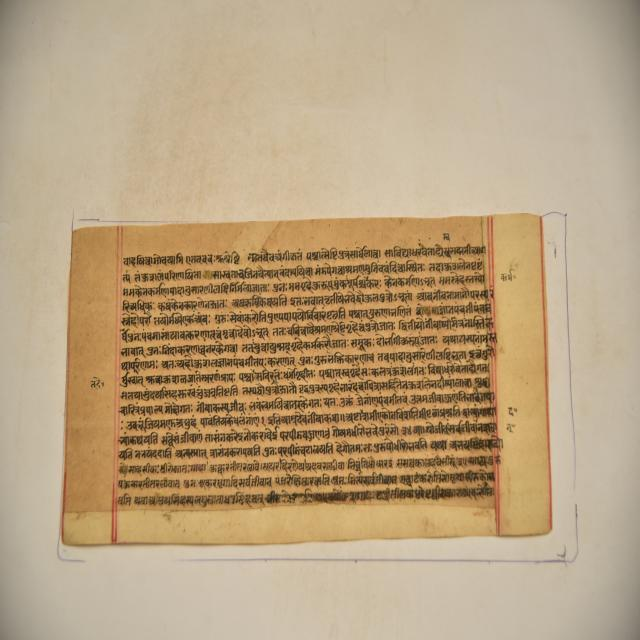text_paragraph: (56, 212, 552, 547)
